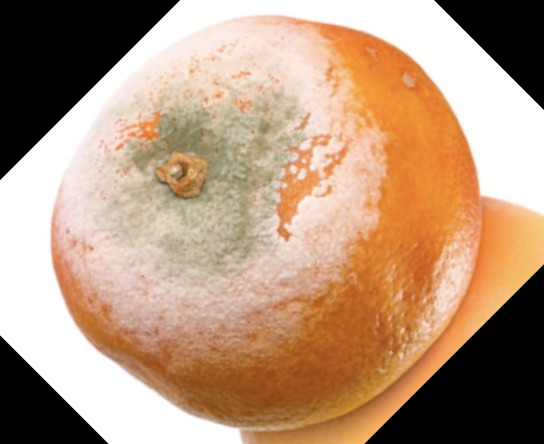rotten_orange: (51, 15, 481, 432)
